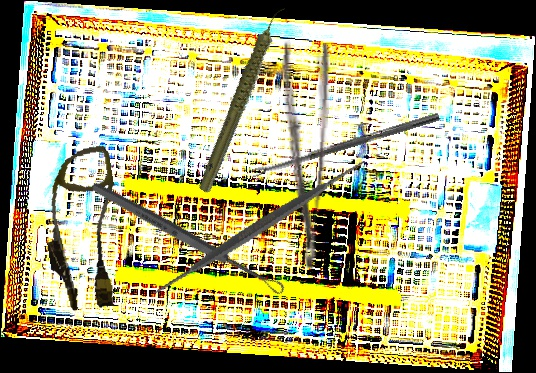Cannula: (33, 144, 133, 315)
Dressing Forceps: (267, 40, 334, 272)
Handpiece: (164, 4, 324, 195)
Spatula Surgical: (139, 107, 381, 348)
Surgical Spoon: (88, 179, 288, 298), (250, 111, 441, 178)
